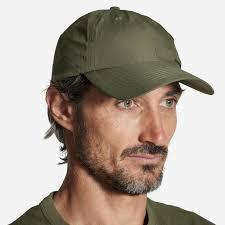cap: (48, 4, 222, 105)
